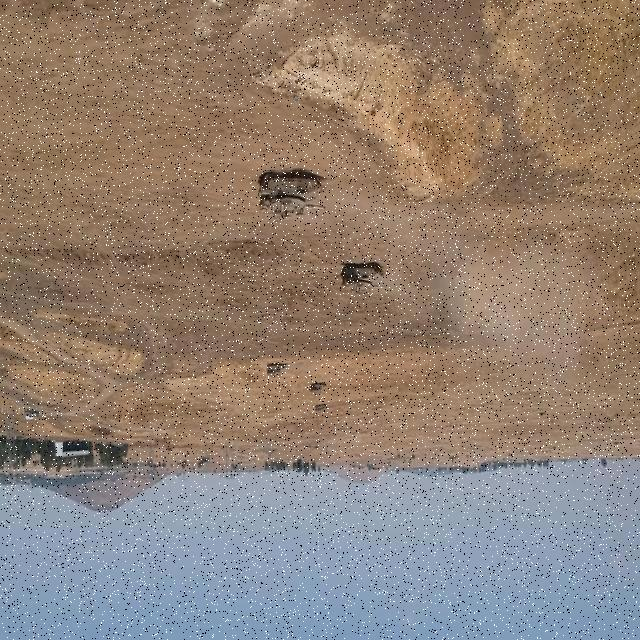MIL_MBT: (257, 171, 334, 223), (342, 264, 388, 294), (267, 356, 287, 384), (307, 381, 326, 395), (317, 398, 328, 417)
